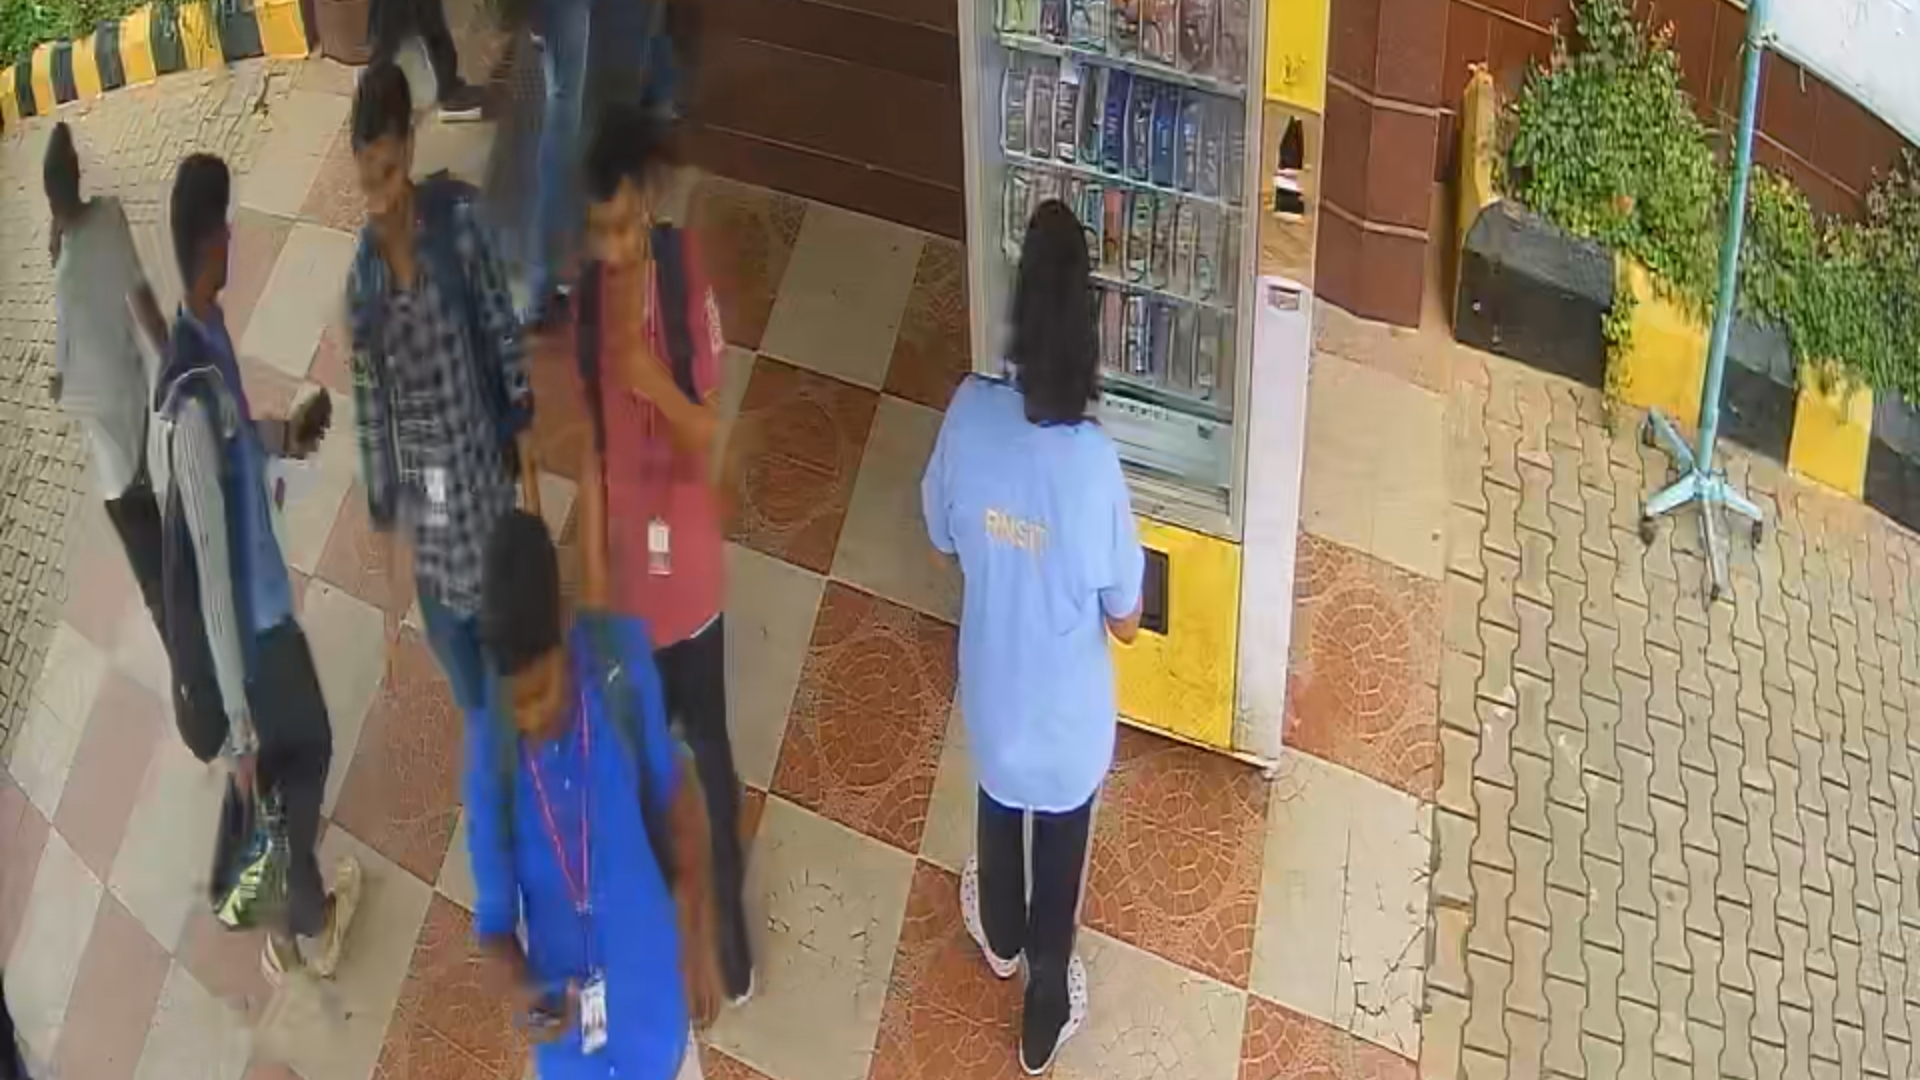intruder: (326, 105, 575, 713)
not intruder: (574, 140, 746, 922), (473, 513, 688, 1080)
